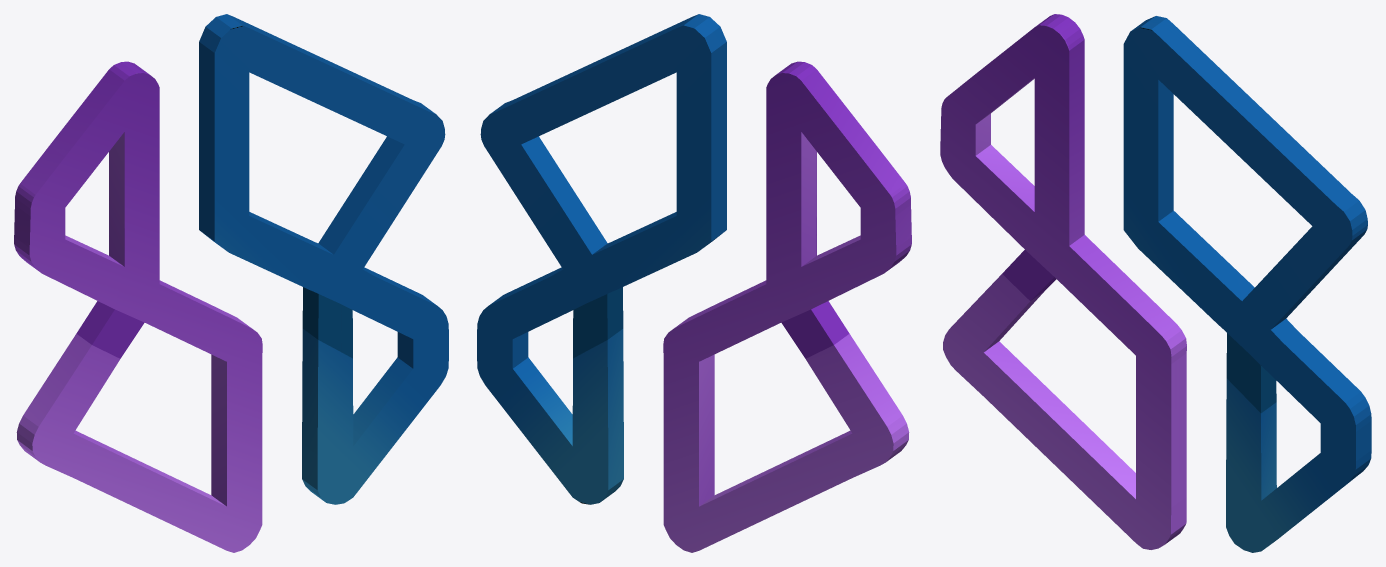
The model's file is sd_purple.glb.
3 views of the same model, side by side, from view 1: azimuth 30°, elevation 25°; view 2: azimuth 150°, elevation 25°; view 3: azimuth 330°, elevation 25° (orthographic).
Parts seen in each view (by area): view 1: Right Side, Left Side; view 2: Right Side, Left Side; view 3: Right Side, Left Side.
Boxes of the visible parts, <box> form: Right Side: <box>199,14,448,504</box>; Left Side: <box>14,61,262,552</box>; Right Side: <box>477,14,726,504</box>; Left Side: <box>663,61,911,552</box>; Right Side: <box>1123,16,1371,552</box>; Left Side: <box>940,14,1186,549</box>.
Bounding box in the file's own units: 2.64 × 3.17 × 0.1708.
2 materials, 2 textured.
